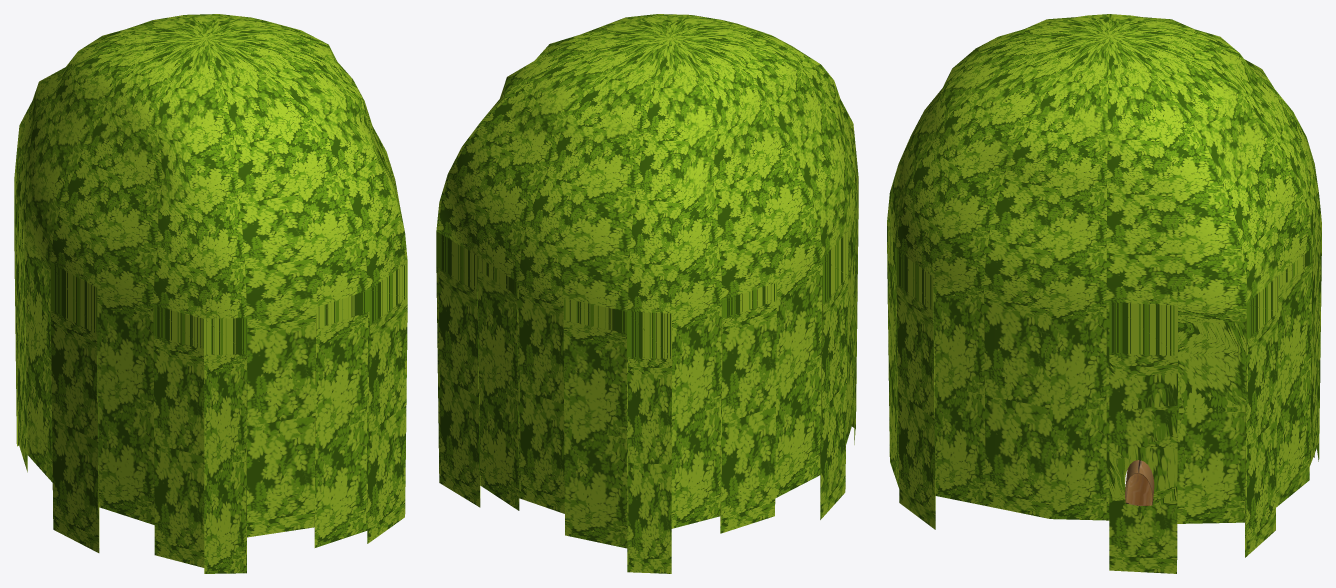
File: fachada.obj
3 renders of one model, left to right at view 1: azimuth 30°, elevation 25°; view 2: azimuth 150°, elevation 25°; view 3: azimuth 270°, elevation 25°, orthographic.
Parts seen in each view (by area): view 1: polySurface13; view 2: polySurface13; view 3: polySurface13.
Part boxes in pixels (box(x1,y1,x2,y2)): polySurface13: box(14, 14, 407, 573); polySurface13: box(436, 14, 858, 573); polySurface13: box(887, 14, 1321, 573).
Size of the model in its own units: 146 by 181 by 157.
19 materials, 18 textured.
